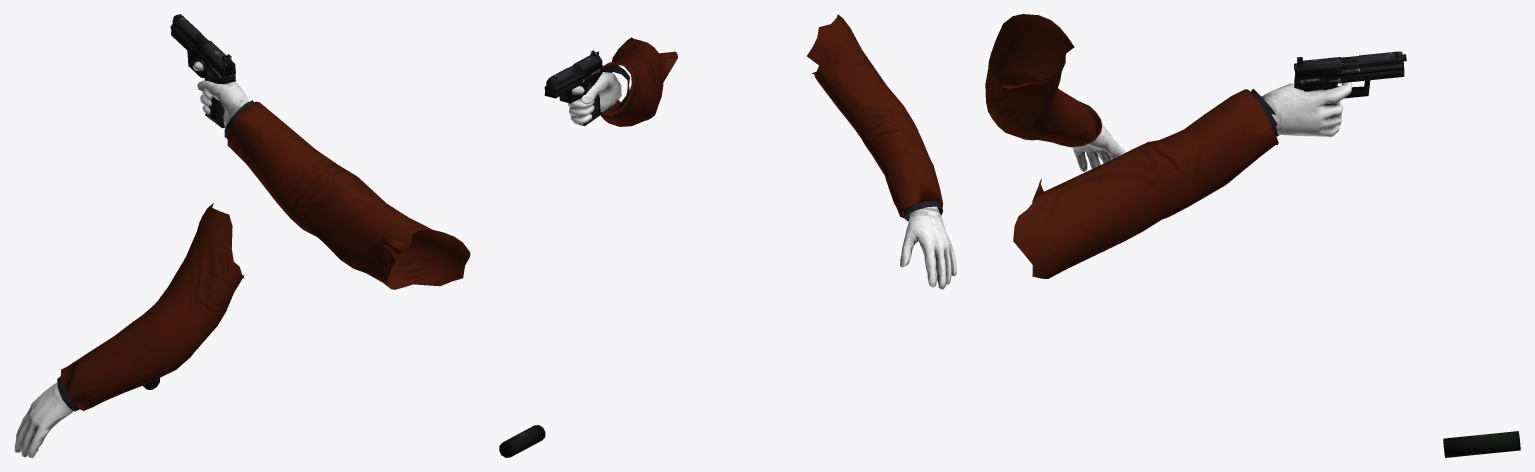
Rendered from frame_0006.obj.
The picture shows the model from 3 angles, left to right: view 1: azimuth 30°, elevation 25°; view 2: azimuth 150°, elevation 25°; view 3: azimuth 270°, elevation 25°; orthographic projection. The views are drawn at different scales.
Visible parts, largest first — view 1: PlayerModelMerged.001_PlayerModelMerged, glock_reference.001; view 2: PlayerModelMerged.001_PlayerModelMerged, glock_reference.001; view 3: PlayerModelMerged.001_PlayerModelMerged, glock_reference.001.
Part boxes in pixels (x1,y1,x2,y2): PlayerModelMerged.001_PlayerModelMerged: [14, 61, 470, 457]; glock_reference.001: [143, 14, 235, 389]; PlayerModelMerged.001_PlayerModelMerged: [567, 14, 956, 289]; glock_reference.001: [499, 50, 602, 457]; PlayerModelMerged.001_PlayerModelMerged: [985, 14, 1352, 278]; glock_reference.001: [1294, 51, 1520, 457].
Bounding box in the file's own units: 1.14 × 1.03 × 1.23.
